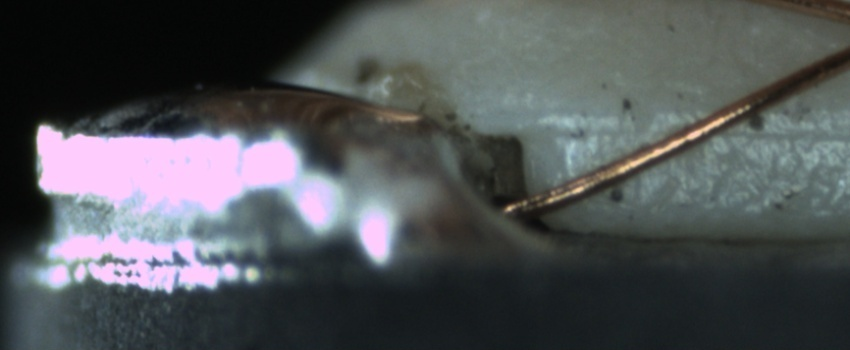DL: (547, 99, 850, 160)
